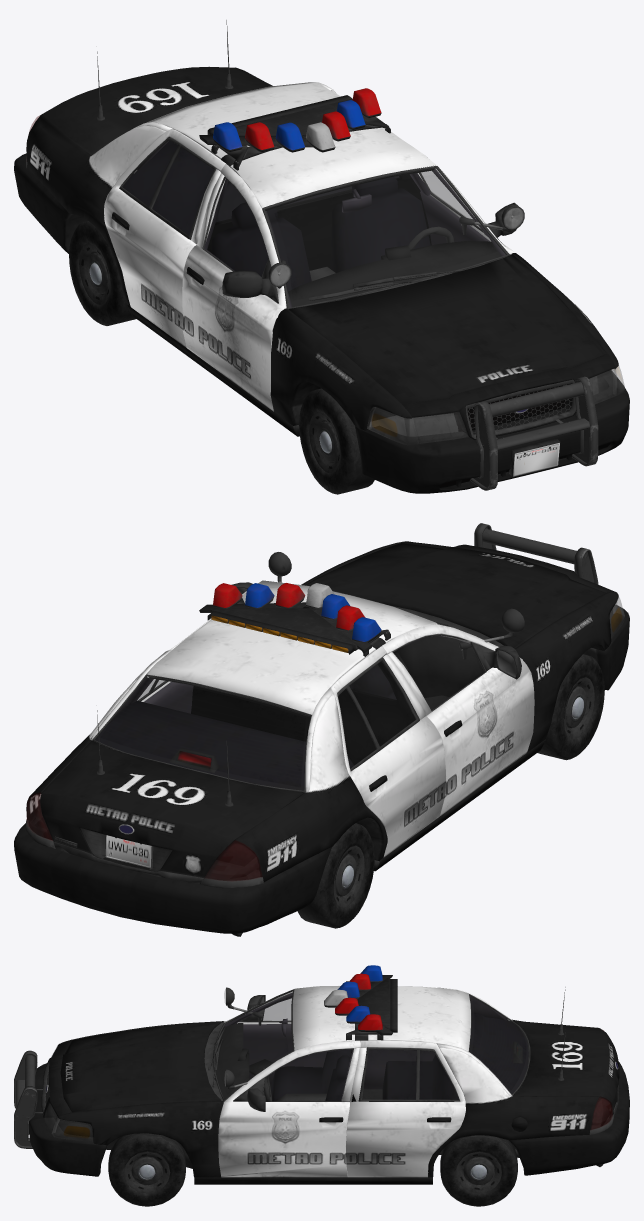
Rendered from crownvic_police.lod0.glb.
3 views of the same model, one above another, from view 1: azimuth 30°, elevation 25°; view 2: azimuth 150°, elevation 25°; view 3: azimuth 270°, elevation 25° (orthographic). The views are drawn at different scales.
Parts seen in each view (by area): view 1: glass_low_main_frame_0, glass_low_glass_0, glass_low_interior_bottom_0, glass_low_wheels_and_parts_0, fs_vector_bulbs_base_low_fs_vector_0, glass_low_interior2_0, glass_low_plate_0; view 2: glass_low_main_frame_0, glass_low_glass_0, glass_low_interior_bottom_0, glass_low_wheels_and_parts_0, fs_vector_bulbs_base_low_fs_vector_0, glass_low_interior2_0, glass_low_plate_0; view 3: glass_low_main_frame_0, glass_low_glass_0, glass_low_interior_bottom_0, glass_low_wheels_and_parts_0, glass_low_interior2_0, fs_vector_bulbs_base_low_fs_vector_0.
Boxes of the visible parts, box(x1,y1,x2,y2) form: glass_low_main_frame_0: box(14, 66, 629, 493); glass_low_glass_0: box(26, 115, 624, 444); glass_low_interior_bottom_0: box(74, 140, 501, 436); glass_low_wheels_and_parts_0: box(69, 20, 598, 494); fs_vector_bulbs_base_low_fs_vector_0: box(199, 88, 390, 170); glass_low_interior2_0: box(122, 141, 505, 307); glass_low_plate_0: box(509, 438, 560, 477); glass_low_main_frame_0: box(14, 541, 629, 933); glass_low_glass_0: box(26, 597, 624, 881); glass_low_interior_bottom_0: box(34, 636, 484, 936); glass_low_wheels_and_parts_0: box(54, 523, 604, 928); fs_vector_bulbs_base_low_fs_vector_0: box(199, 583, 390, 656); glass_low_interior2_0: box(107, 635, 483, 725); glass_low_plate_0: box(105, 835, 151, 867); glass_low_main_frame_0: box(29, 985, 629, 1184); glass_low_glass_0: box(44, 989, 612, 1141); glass_low_interior_bottom_0: box(106, 1013, 611, 1168); glass_low_wheels_and_parts_0: box(14, 987, 618, 1206); glass_low_interior2_0: box(224, 992, 507, 1165); fs_vector_bulbs_base_low_fs_vector_0: box(324, 965, 397, 1040).
Bounding box in the file's own units: 2.64 × 2.03 × 6.62.
Materials: 7 (7 with a texture image).
